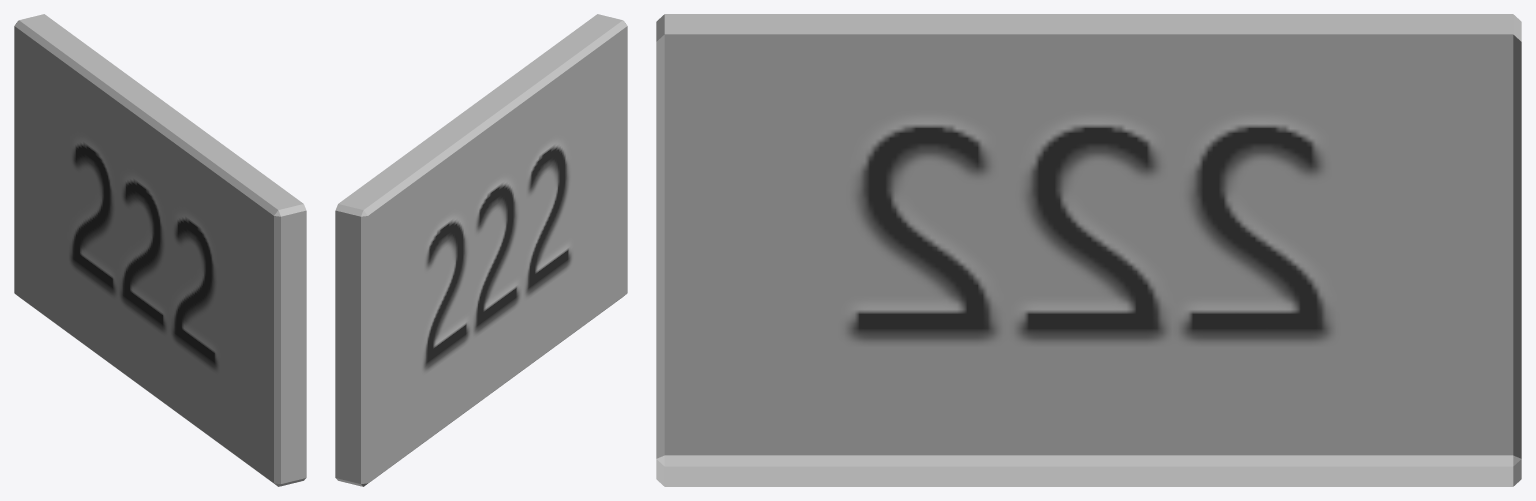
The picture shows the model from 3 angles, left to right: view 1: azimuth 30°, elevation 25°; view 2: azimuth 150°, elevation 25°; view 3: azimuth 270°, elevation 25°; orthographic projection. The views are drawn at different scales.
Visible parts, largest first — view 1: pCube45; view 2: pCube45; view 3: pCube45.
Boxes of the visible parts, x1,y1,x2,y2 form: pCube45: (14,14,306,486); pCube45: (335,14,627,486); pCube45: (656,14,1521,486).
Size of the model in its own units: 0.8887 by 7.85 by 13.6.
1 material, 1 textured.
